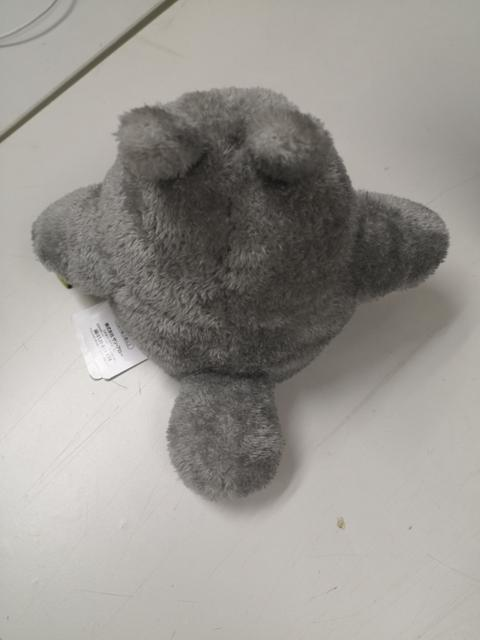totoro: (28, 77, 452, 514)
